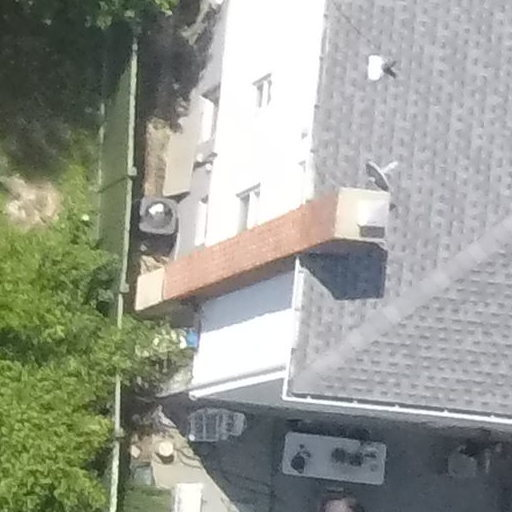air conditioner: (132, 188, 183, 243)
container: (150, 435, 179, 461), (290, 451, 310, 474), (349, 450, 364, 472)
table: (281, 423, 398, 497)
